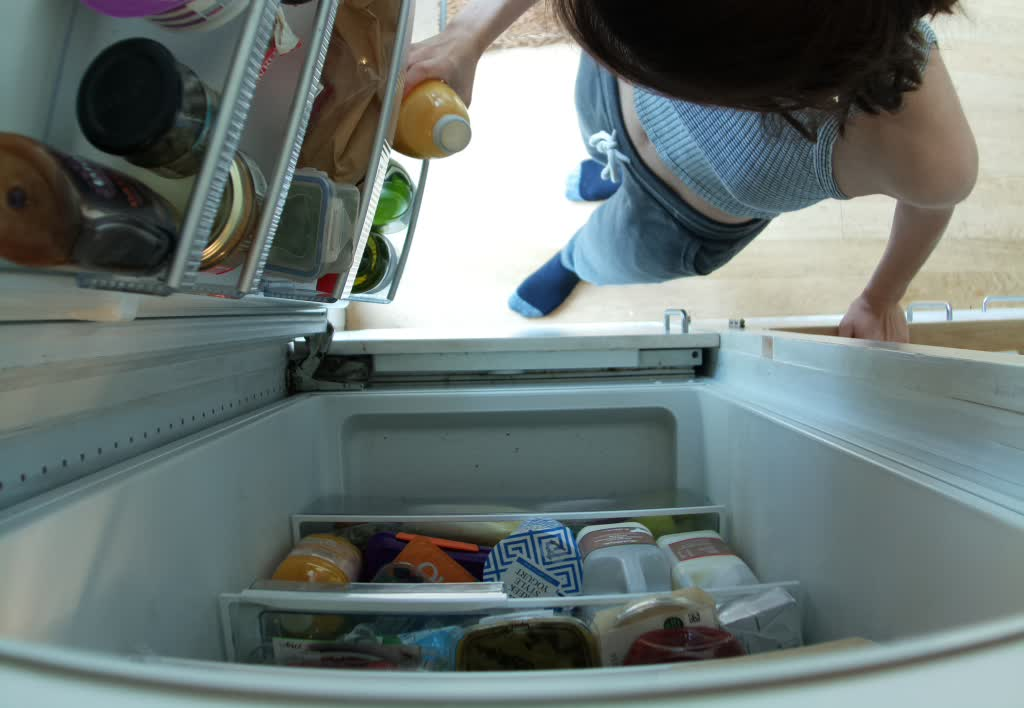juice: (382, 66, 480, 164)
